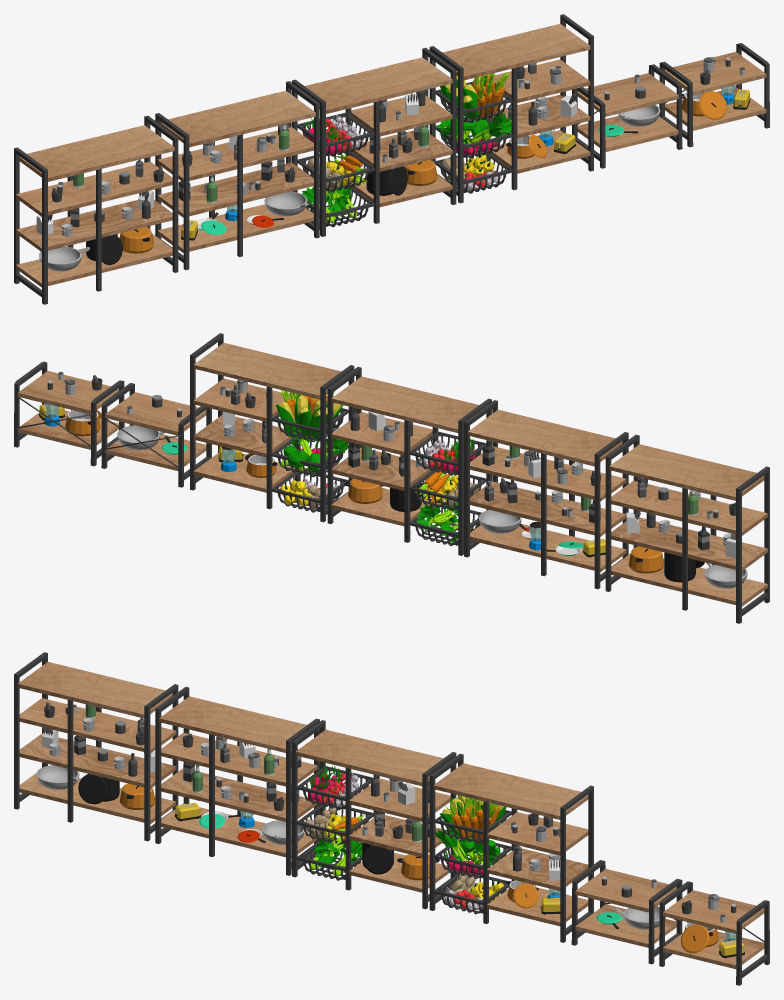
Rendered from Shelves variants.fbx.
3 renders of one model, top to bottom at view 1: azimuth 30°, elevation 25°; view 2: azimuth 150°, elevation 25°; view 3: azimuth 330°, elevation 25°, orthographic.
Visible parts, largest first — view 1: Shelve.V2, Shelve.V4, Shelve.V3, Shelve.V1, Shelve Small.V2, Shelve Small.V1; view 2: Shelve.V2, Shelve.V4, Shelve.V3, Shelve.V1, Shelve Small.V1, Shelve Small.V2; view 3: Shelve.V4, Shelve.V3, Shelve.V2, Shelve.V1, Shelve Small.V2, Shelve Small.V1.
Part boxes in pixels (x1=…): Shelve.V2: x1=14, y1=115, x2=178, y2=304; Shelve.V4: x1=429, y1=14, x2=593, y2=203; Shelve.V3: x1=292, y1=48, x2=456, y2=236; Shelve.V1: x1=155, y1=81, x2=319, y2=270; Shelve Small.V2: x1=659, y1=43, x2=769, y2=147; Shelve Small.V1: x1=572, y1=64, x2=682, y2=168; Shelve.V2: x1=605, y1=434, x2=769, y2=623; Shelve.V4: x1=190, y1=333, x2=354, y2=522; Shelve.V3: x1=327, y1=367, x2=491, y2=555; Shelve.V1: x1=464, y1=400, x2=628, y2=589; Shelve Small.V1: x1=101, y1=383, x2=211, y2=487; Shelve Small.V2: x1=14, y1=361, x2=124, y2=466; Shelve.V4: x1=429, y1=753, x2=593, y2=942; Shelve.V3: x1=292, y1=720, x2=456, y2=909; Shelve.V2: x1=14, y1=652, x2=178, y2=841; Shelve.V1: x1=155, y1=686, x2=319, y2=875; Shelve Small.V2: x1=659, y1=881, x2=769, y2=985; Shelve Small.V1: x1=571, y1=860, x2=682, y2=964.
Bounding box in the file's own units: 3017 × 534 × 236.
Materials: 30 (1 with a texture image).
